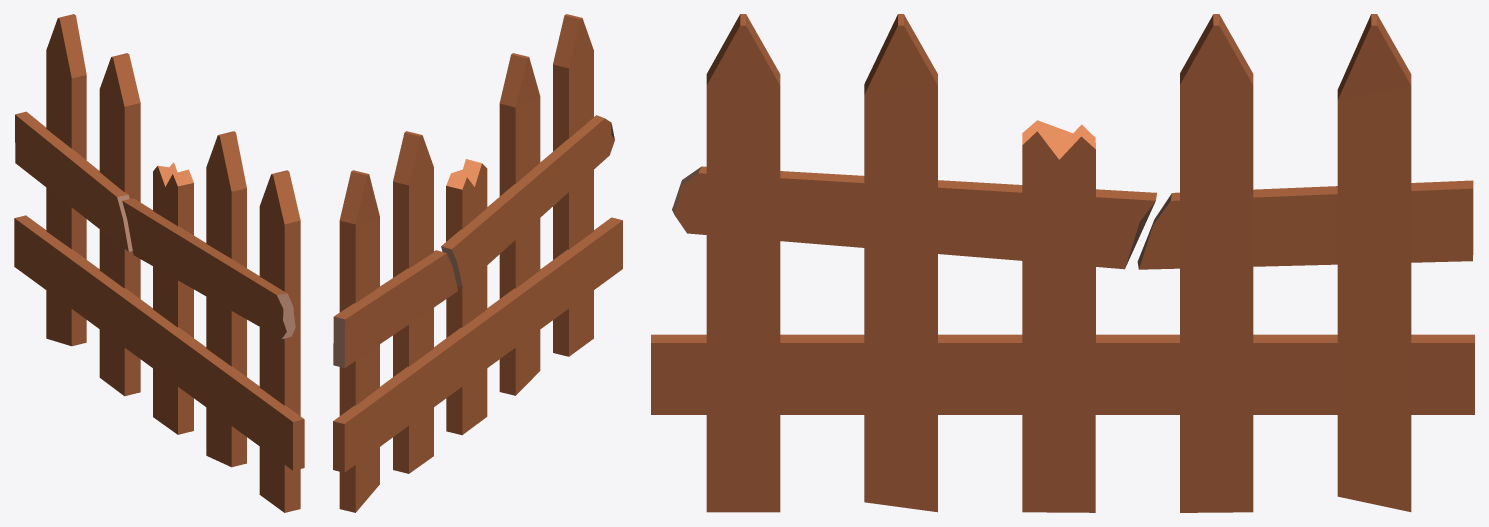
Rendered from Fence_Broken.fbx.
3 renders of one model, left to right at view 1: azimuth 30°, elevation 25°; view 2: azimuth 150°, elevation 25°; view 3: azimuth 270°, elevation 25°, orthographic. The views are drawn at different scales.
Parts seen in each view (by area): view 1: Cube, Cube.001, Cube.002; view 2: Cube, Cube.001, Cube.002; view 3: Cube, Cube.001, Cube.002.
Part boxes in pixels (x1=…): Cube: x1=46, y1=14, x2=300, y2=512; Cube.001: x1=14, y1=215, x2=304, y2=470; Cube.002: x1=15, y1=111, x2=295, y2=339; Cube: x1=339, y1=14, x2=593, y2=512; Cube.001: x1=333, y1=217, x2=622, y2=472; Cube.002: x1=333, y1=115, x2=614, y2=368; Cube: x1=706, y1=14, x2=1411, y2=512; Cube.001: x1=651, y1=334, x2=1474, y2=414; Cube.002: x1=672, y1=166, x2=1473, y2=269.
Bounding box in the file's own units: 19.25 × 228 × 349.
